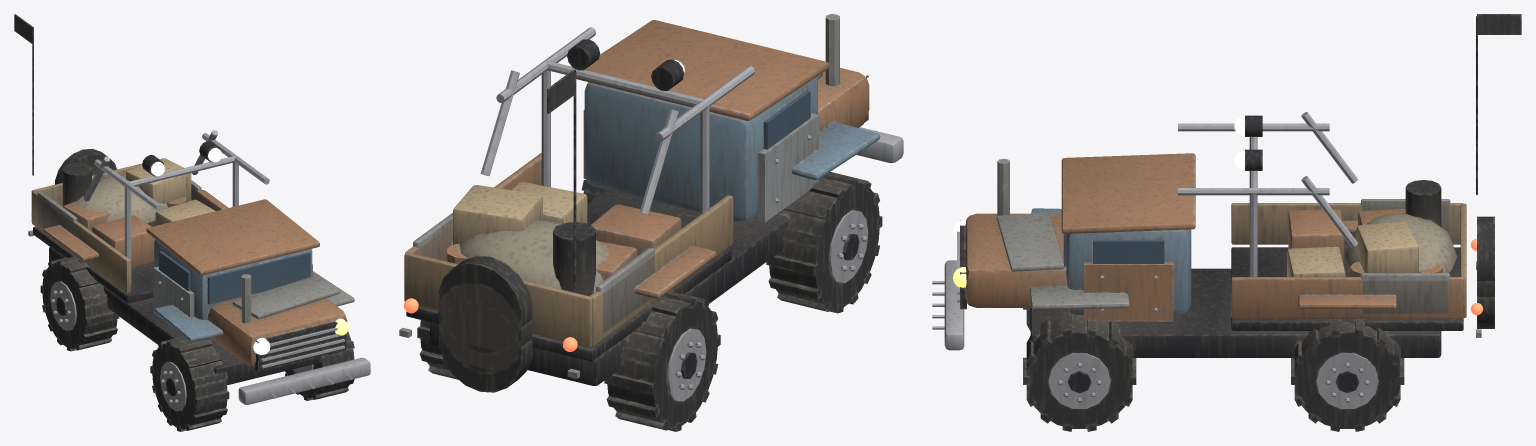
Rendered from shadow_truck.glb.
The picture shows the model from 3 angles, left to right: view 1: azimuth 30°, elevation 25°; view 2: azimuth 150°, elevation 25°; view 3: azimuth 270°, elevation 25°; orthographic projection. The views are drawn at different scales.
Visible parts, largest first — view 1: Hull; view 2: Hull; view 3: Hull.
Boxes of the visible parts, left/top/right/bottom form: Hull: left=14, top=14, right=370, bottom=431; Hull: left=399, top=14, right=903, bottom=431; Hull: left=932, top=14, right=1521, bottom=431.
Size of the model in its own units: 2.65 by 4.16 by 6.6.
17 materials, 17 textured.
